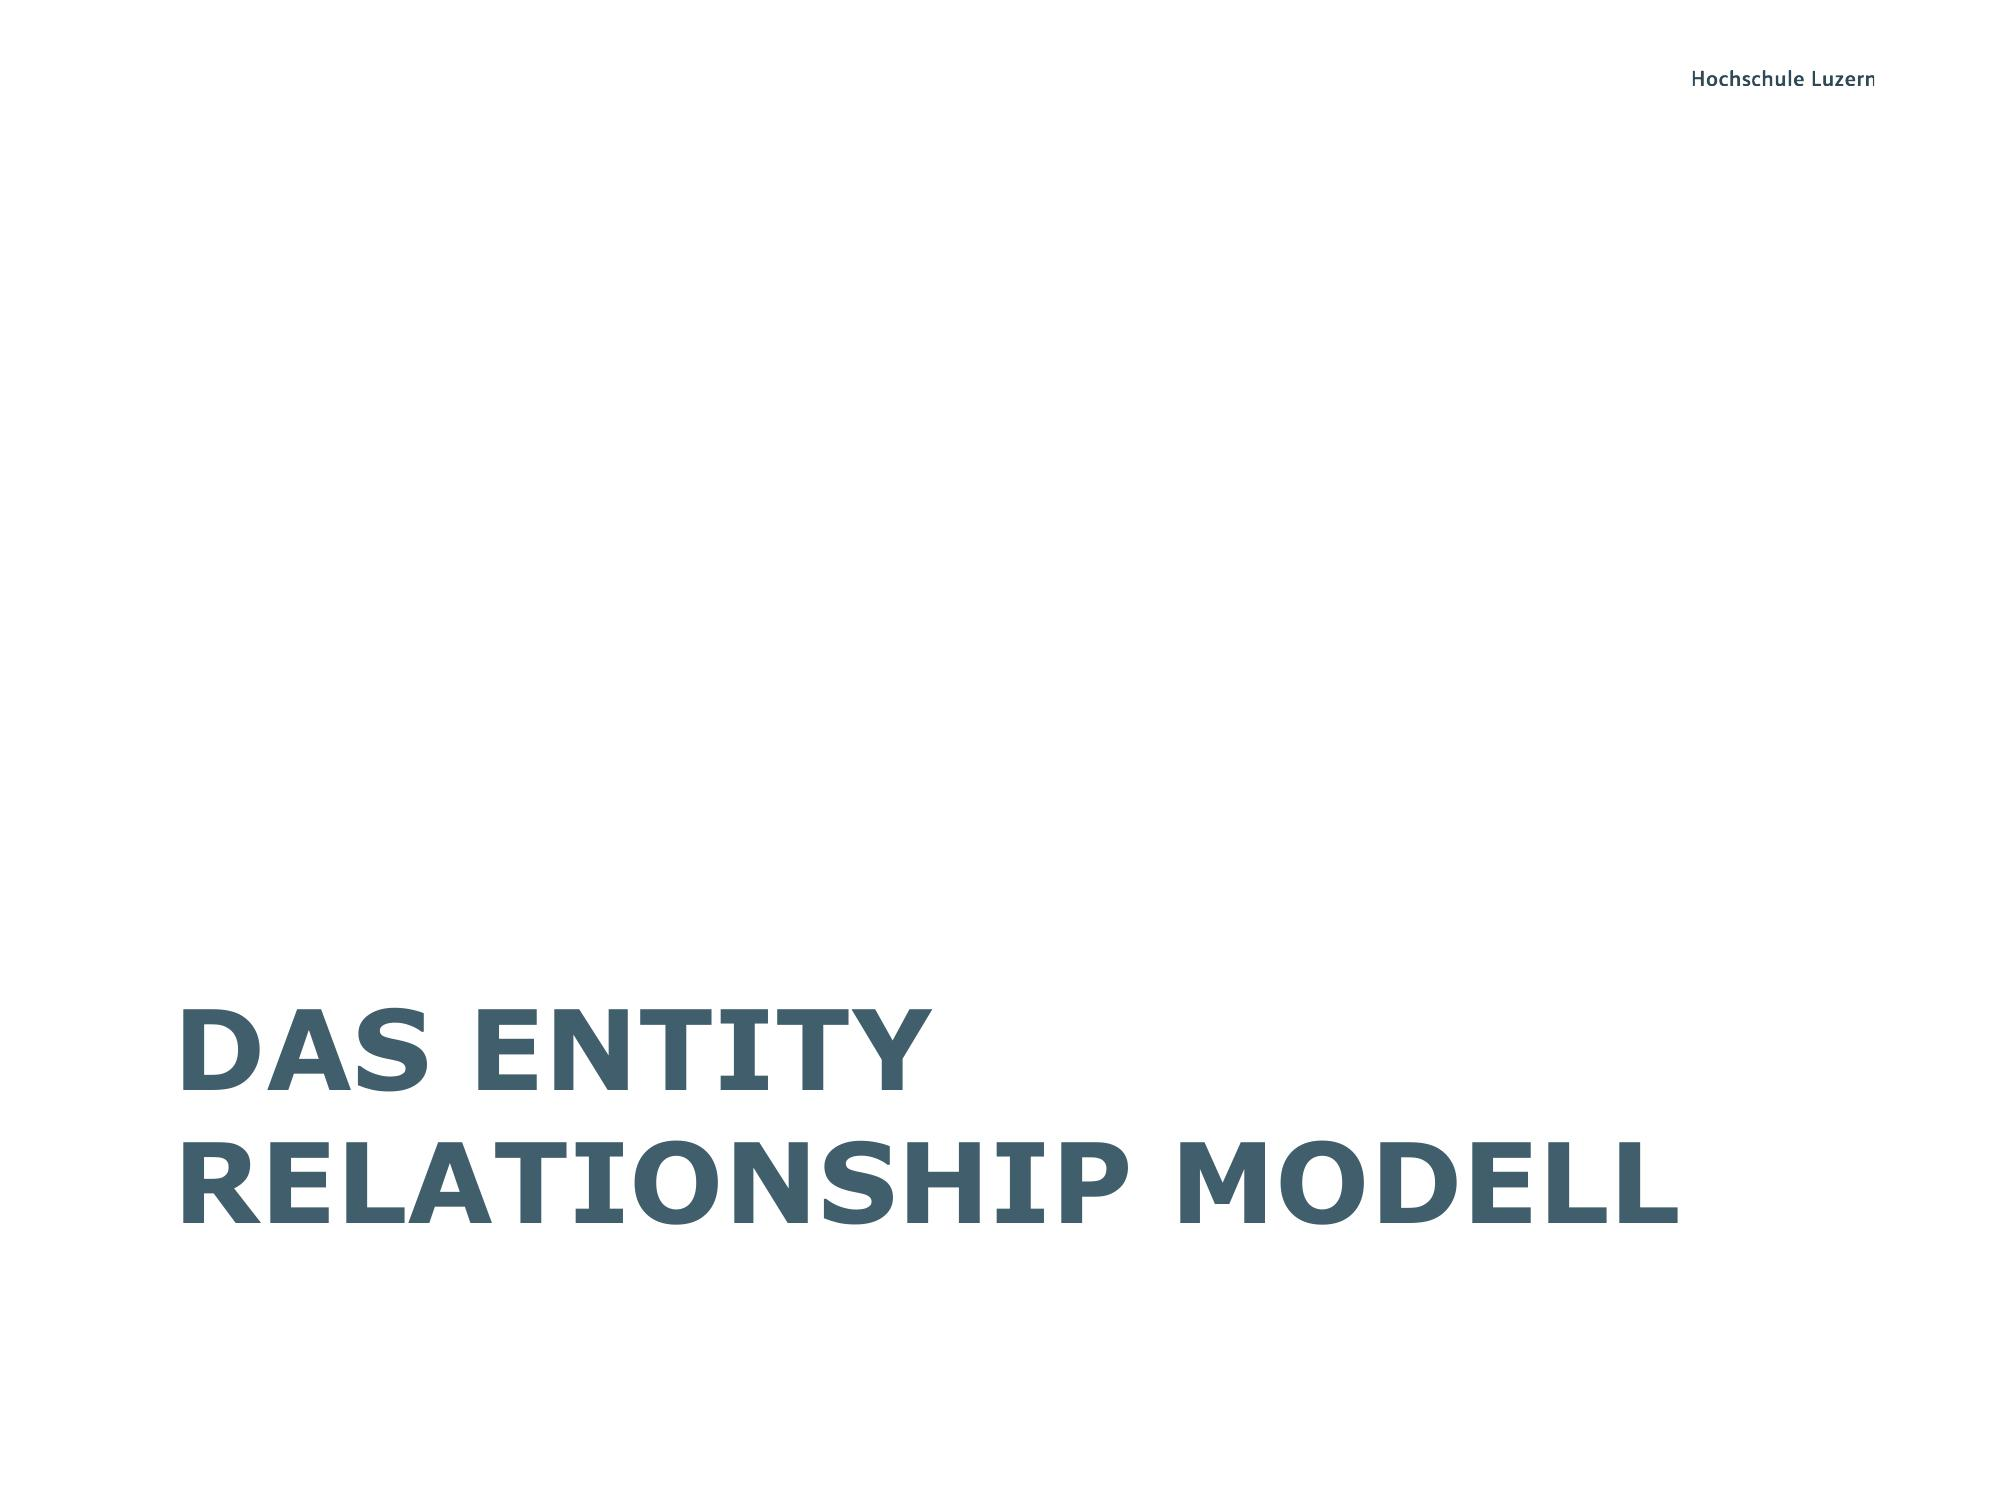Title: (169, 991, 1694, 1254)
